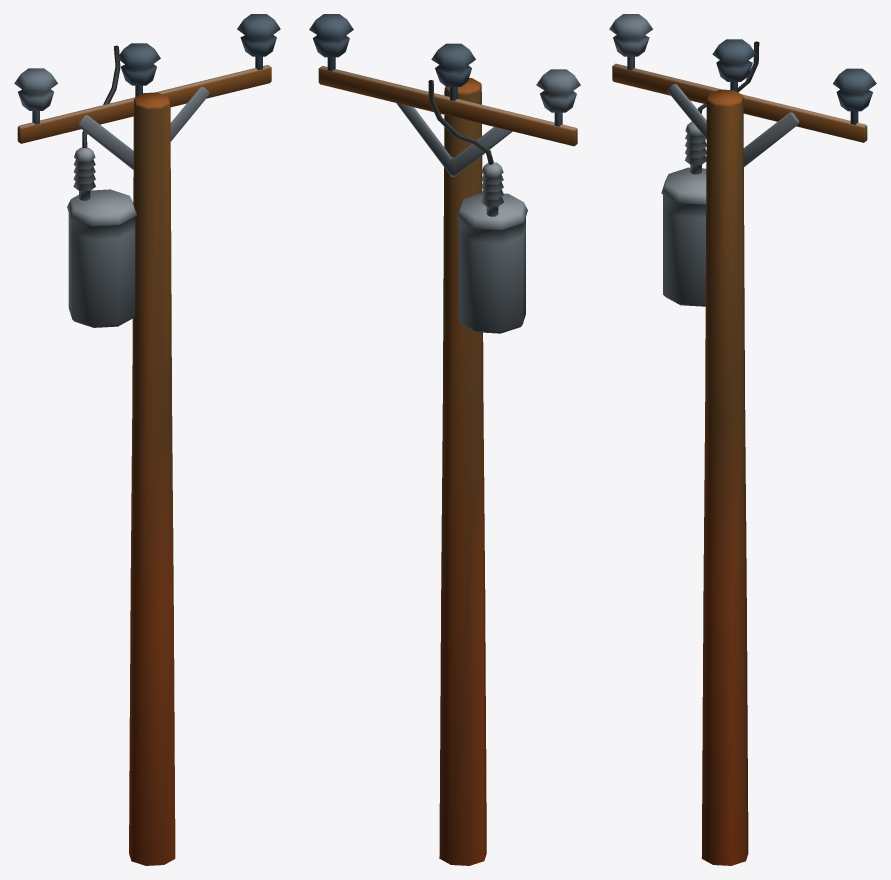
File: TelegraphPole01.fbx
The picture shows the model from 3 angles, left to right: view 1: azimuth 30°, elevation 25°; view 2: azimuth 150°, elevation 25°; view 3: azimuth 330°, elevation 25°; orthographic projection.
Parts seen in each view (by area): view 1: TelegraphPole01; view 2: TelegraphPole01; view 3: TelegraphPole01.
Boxes of the visible parts, left/top/right/bottom form: TelegraphPole01: left=14, top=14, right=280, bottom=865; TelegraphPole01: left=309, top=14, right=580, bottom=865; TelegraphPole01: left=609, top=14, right=876, bottom=865.
Size of the model in its own units: 229 by 680 by 71.74.
